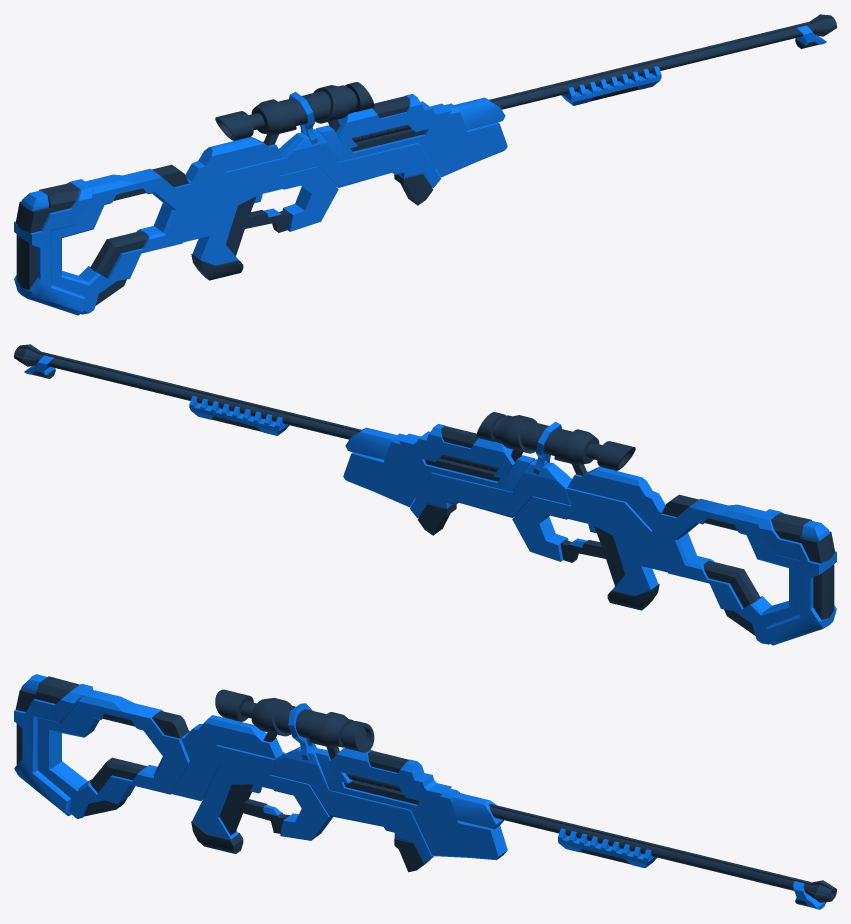
File: LowPolyExportFinal.obj
3 renders of one model, top to bottom at view 1: azimuth 30°, elevation 25°; view 2: azimuth 150°, elevation 25°; view 3: azimuth 330°, elevation 25°, orthographic.
Visible parts, largest first — view 1: Stock.002_Cube.011, Scope_Cylinder.001, ImprovedFrontStock_Cube.061, Stock.001_Cube.010, Cannon_Cylinder, Stock.005_Cube.000, Stock.017_Cube.021, Stock.003_Cube.012, Stock.013_Cube.015, Stock.004_Cube.013, Stock.018_Cube.022, Brace_Cube.008 (+10 smaller); view 2: Stock.002_Cube.011, Scope_Cylinder.001, ImprovedFrontStock_Cube.061, Stock.001_Cube.010, Cannon_Cylinder, Stock.005_Cube.000, Stock.017_Cube.021, Stock.003_Cube.012, Stock.013_Cube.015, Stock.004_Cube.013, Stock.018_Cube.022, Brace_Cube.008 (+10 smaller); view 3: Stock.002_Cube.011, Scope_Cylinder.001, Stock.001_Cube.010, Cannon_Cylinder, ImprovedFrontStock_Cube.061, Stock.005_Cube.000, Stock.017_Cube.021, Stock.003_Cube.012, Stock.004_Cube.013, Stock.013_Cube.015, Stock.018_Cube.022, Brace_Cube.008 (+12 smaller).
Boxes of the visible parts, x1=… form: Stock.002_Cube.011: x1=51, y1=168, x2=199, y2=314; Scope_Cylinder.001: x1=215, y1=82, x2=374, y2=145; ImprovedFrontStock_Cube.061: x1=279, y1=129, x2=440, y2=187; Stock.001_Cube.010: x1=315, y1=103, x2=507, y2=177; Cannon_Cylinder: x1=489, y1=14, x2=836, y2=109; Stock.005_Cube.000: x1=14, y1=179, x2=92, y2=315; Stock.017_Cube.021: x1=185, y1=137, x2=283, y2=200; Stock.003_Cube.012: x1=183, y1=157, x2=284, y2=242; Stock.013_Cube.015: x1=274, y1=166, x2=338, y2=231; Stock.004_Cube.013: x1=192, y1=178, x2=282, y2=265; Stock.018_Cube.022: x1=363, y1=94, x2=451, y2=130; Brace_Cube.008: x1=561, y1=66, x2=661, y2=105; Stock.002_Cube.011: x1=651, y1=498, x2=799, y2=644; Scope_Cylinder.001: x1=476, y1=412, x2=635, y2=475; ImprovedFrontStock_Cube.061: x1=410, y1=459, x2=571, y2=517; Stock.001_Cube.010: x1=343, y1=433, x2=535, y2=507; Cannon_Cylinder: x1=14, y1=344, x2=361, y2=439; Stock.005_Cube.000: x1=758, y1=509, x2=836, y2=645; Stock.017_Cube.021: x1=567, y1=467, x2=665, y2=530; Stock.003_Cube.012: x1=566, y1=487, x2=667, y2=572; Stock.013_Cube.015: x1=512, y1=496, x2=576, y2=561; Stock.004_Cube.013: x1=568, y1=508, x2=658, y2=595; Stock.018_Cube.022: x1=399, y1=424, x2=487, y2=460; Brace_Cube.008: x1=189, y1=396, x2=289, y2=435; Stock.002_Cube.011: x1=37, y1=689, x2=189, y2=818; Scope_Cylinder.001: x1=215, y1=689, x2=374, y2=759; Stock.001_Cube.010: x1=315, y1=749, x2=507, y2=860; Cannon_Cylinder: x1=489, y1=804, x2=836, y2=902; ImprovedFrontStock_Cube.061: x1=271, y1=746, x2=433, y2=862; Stock.005_Cube.000: x1=14, y1=683, x2=92, y2=815; Stock.017_Cube.021: x1=181, y1=715, x2=283, y2=760; Stock.003_Cube.012: x1=172, y1=745, x2=284, y2=800; Stock.004_Cube.013: x1=192, y1=763, x2=272, y2=839; Stock.013_Cube.015: x1=265, y1=774, x2=332, y2=840; Stock.018_Cube.022: x1=357, y1=749, x2=451, y2=804; Brace_Cube.008: x1=558, y1=828, x2=656, y2=868.
Bounding box in the file's own units: 0.8658 × 0.1656 × 0.0392.
